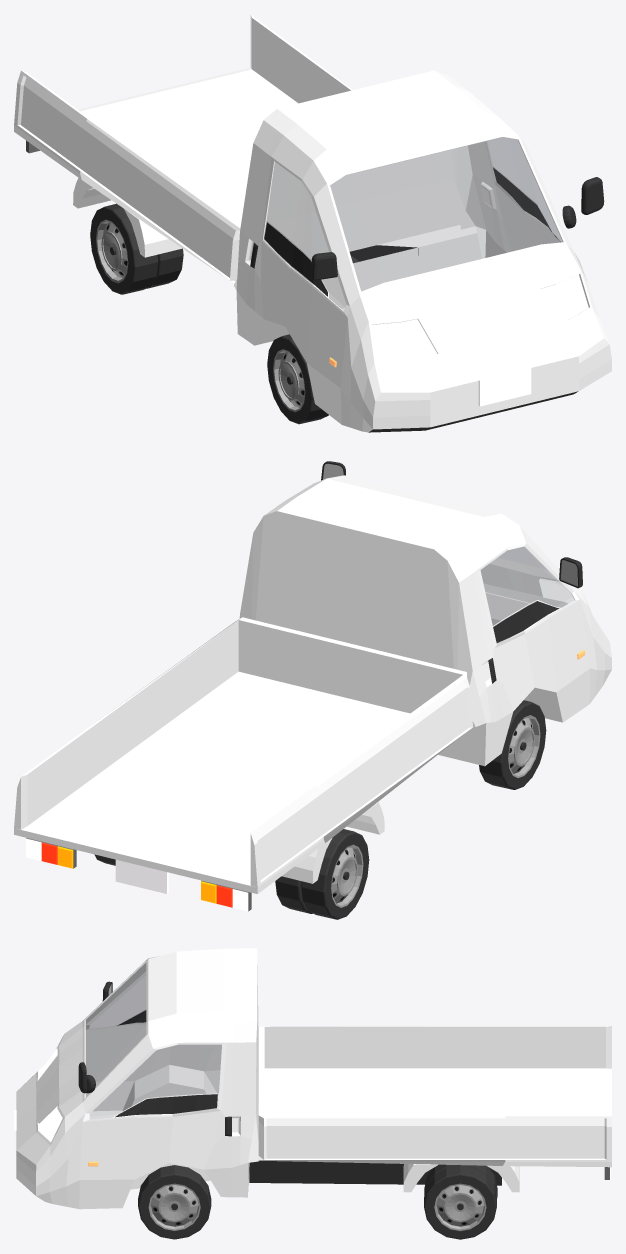
File: bongo.glb
The picture shows the model from 3 angles, top to bottom: view 1: azimuth 30°, elevation 25°; view 2: azimuth 150°, elevation 25°; view 3: azimuth 270°, elevation 25°; orthographic projection. The views are drawn at different scales.
Parts seen in each view (by area): view 1: bongo_body, tire_rr_outside, tire_fr, wheel_rr, wheel_fr, number_f, mirror_l, tire_rr_inside, mirror_r; view 2: bongo_body, tire_rr_outside, tire_fr, rear_lamp, wheel_fr, wheel_rr, number_r, tire_rr_inside, number_f, mirror_r; view 3: bongo_body, tire_fl, tire_rl_outside, wheel_fl, wheel_rl, tire_rl_inside.
Boxes of the visible parts, bbox=[...] form: bongo_body: bbox=[14, 15, 611, 432]; tire_rr_outside: bbox=[90, 203, 158, 294]; tire_fr: bbox=[267, 334, 328, 424]; wheel_rr: bbox=[96, 219, 128, 282]; wheel_fr: bbox=[273, 349, 305, 412]; number_f: bbox=[478, 367, 531, 406]; mirror_l: bbox=[562, 177, 604, 228]; tire_rr_inside: bbox=[147, 248, 183, 288]; mirror_r: bbox=[311, 252, 337, 280]; bongo_body: bbox=[14, 475, 611, 893]; tire_rr_outside: bbox=[301, 829, 369, 919]; tire_fr: bbox=[479, 700, 546, 789]; rear_lamp: bbox=[26, 838, 251, 911]; wheel_fr: bbox=[508, 715, 540, 777]; wheel_rr: bbox=[331, 844, 363, 907]; number_r: bbox=[115, 859, 168, 893]; tire_rr_inside: bbox=[275, 876, 312, 913]; number_f: bbox=[485, 592, 529, 620]; mirror_r: bbox=[559, 557, 582, 588]; bongo_body: bbox=[16, 948, 611, 1209]; tire_fl: bbox=[138, 1165, 211, 1239]; tire_rl_outside: bbox=[424, 1165, 496, 1239]; wheel_fl: bbox=[148, 1183, 200, 1230]; wheel_rl: bbox=[434, 1183, 486, 1230]; tire_rl_inside: bbox=[424, 1164, 497, 1197].
Bounding box in the file's own units: 1.99 × 1.84 × 4.63.
Materials: 13 (1 with a texture image).
